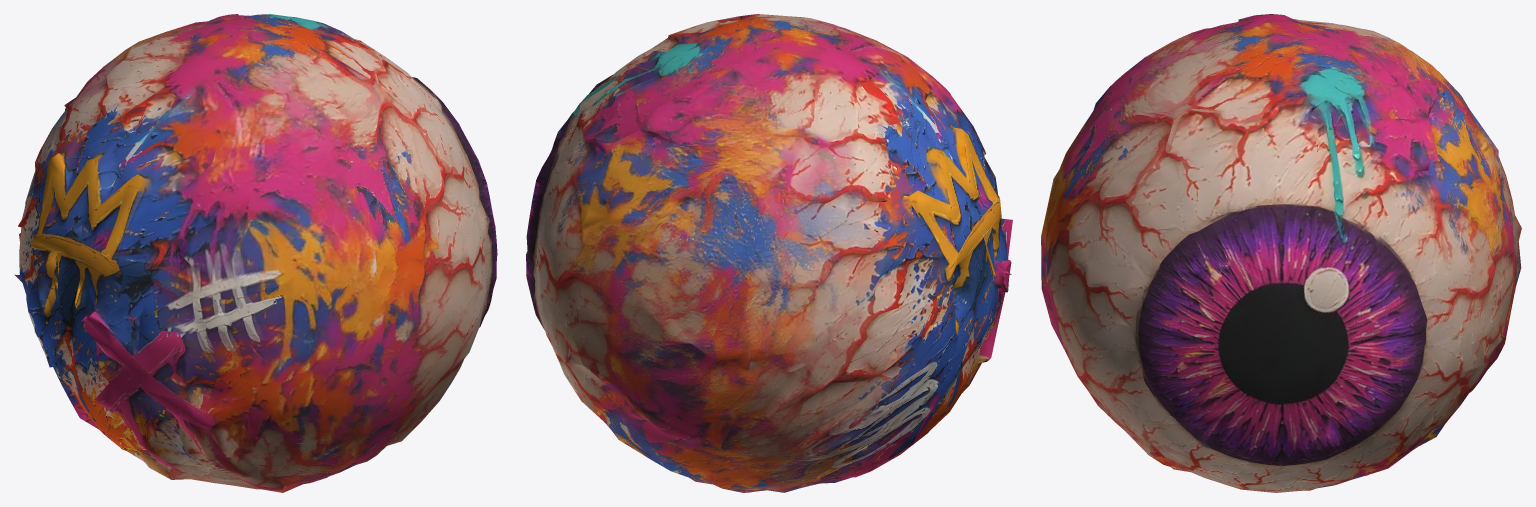
The model's file is peeping_lamp_eye.glb.
The picture shows the model from 3 angles, left to right: view 1: azimuth 30°, elevation 25°; view 2: azimuth 150°, elevation 25°; view 3: azimuth 270°, elevation 25°; orthographic projection.
Visible parts, largest first — view 1: peeping_lamp_eye; view 2: peeping_lamp_eye; view 3: peeping_lamp_eye.
Boxes of the visible parts, x1,y1,x2,y2 form: peeping_lamp_eye: (14, 14, 497, 492); peeping_lamp_eye: (526, 14, 1012, 492); peeping_lamp_eye: (1041, 14, 1521, 492).
Size of the model in its own units: 0.799 by 0.8 by 0.7999.
Materials: 1 (1 with a texture image).
